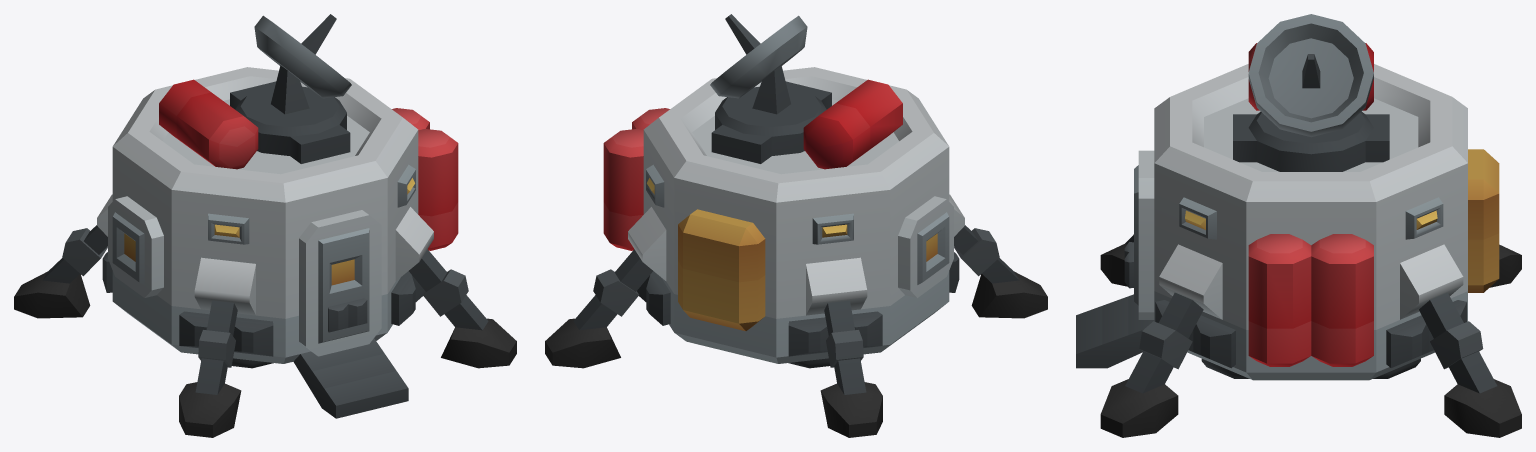
File: space-lander-a.glb
The picture shows the model from 3 angles, left to right: view 1: azimuth 30°, elevation 25°; view 2: azimuth 150°, elevation 25°; view 3: azimuth 270°, elevation 25°; orthographic projection. The views are drawn at different scales.
Parts seen in each view (by area): view 1: lander_A; view 2: lander_A; view 3: lander_A.
Part boxes in pixels (x1,y1,x2,y2): lander_A: (14,14,516,437); lander_A: (545,14,1047,437); lander_A: (1076,14,1521,437).
Size of the model in its own units: 1.37 by 1.19 by 1.42.
